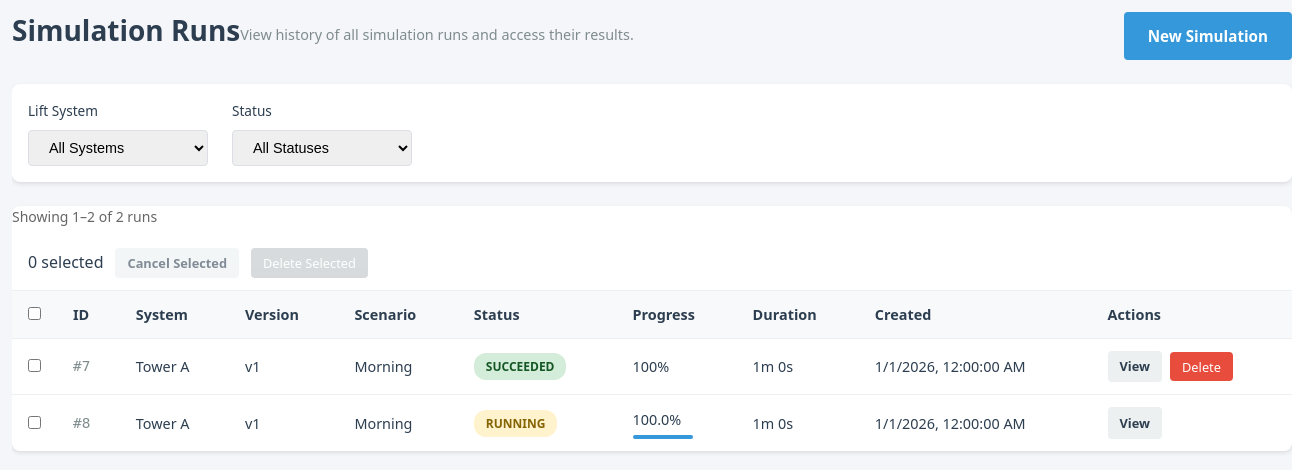
SimulationRuns delete action › disables bulk actions for mixed active and completed selections
Expected: the text "#7" is shown, top-left (57, 338), bottom-right (120, 395)
Click the checkbox named "Select run #7".
click(34, 366)  # box top-left (28, 359), bottom-right (41, 372)
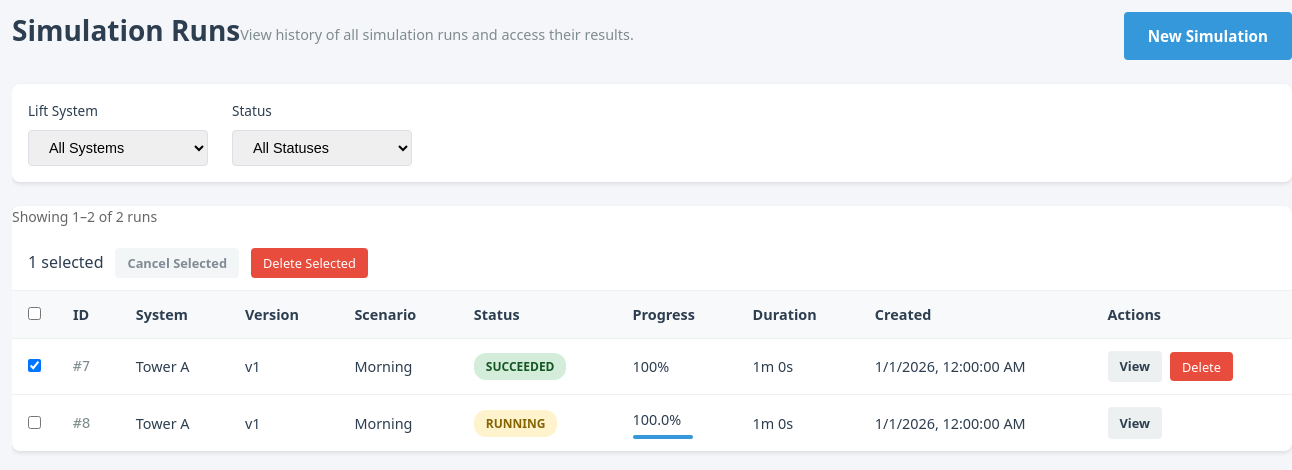
Click the checkbox named "Select run #8".
click(34, 422)  # box top-left (28, 416), bottom-right (41, 429)
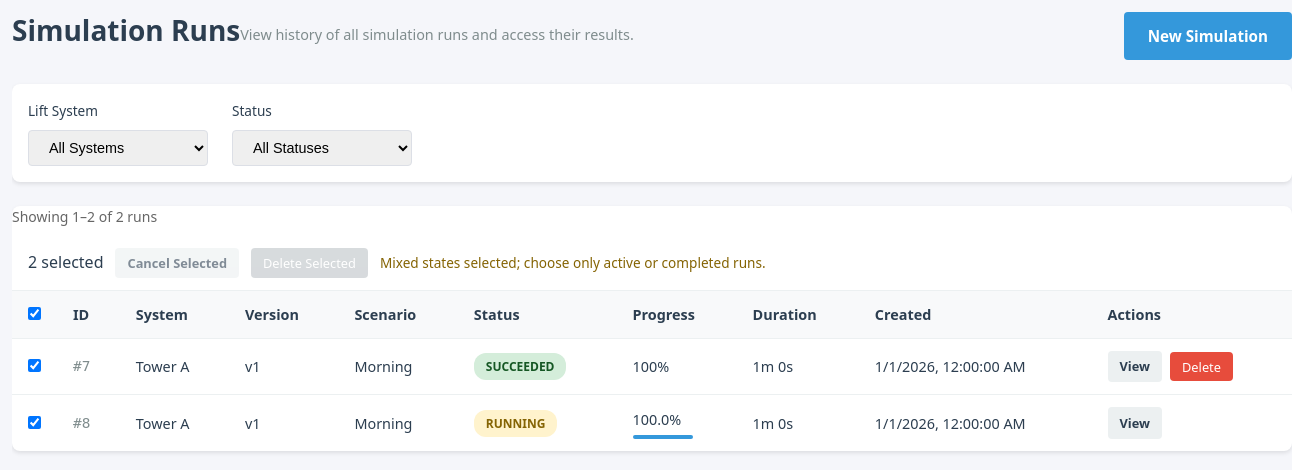
Expected: the button "Cancel Selected" is disabled, top-left (116, 248), bottom-right (239, 278)
Now the button "Delete Selected" is disabled, box top-left (251, 248), bottom-right (368, 278)
Now the text "Mixed states selected; choose only active or completed runs." is shown, box top-left (380, 252), bottom-right (766, 274)
